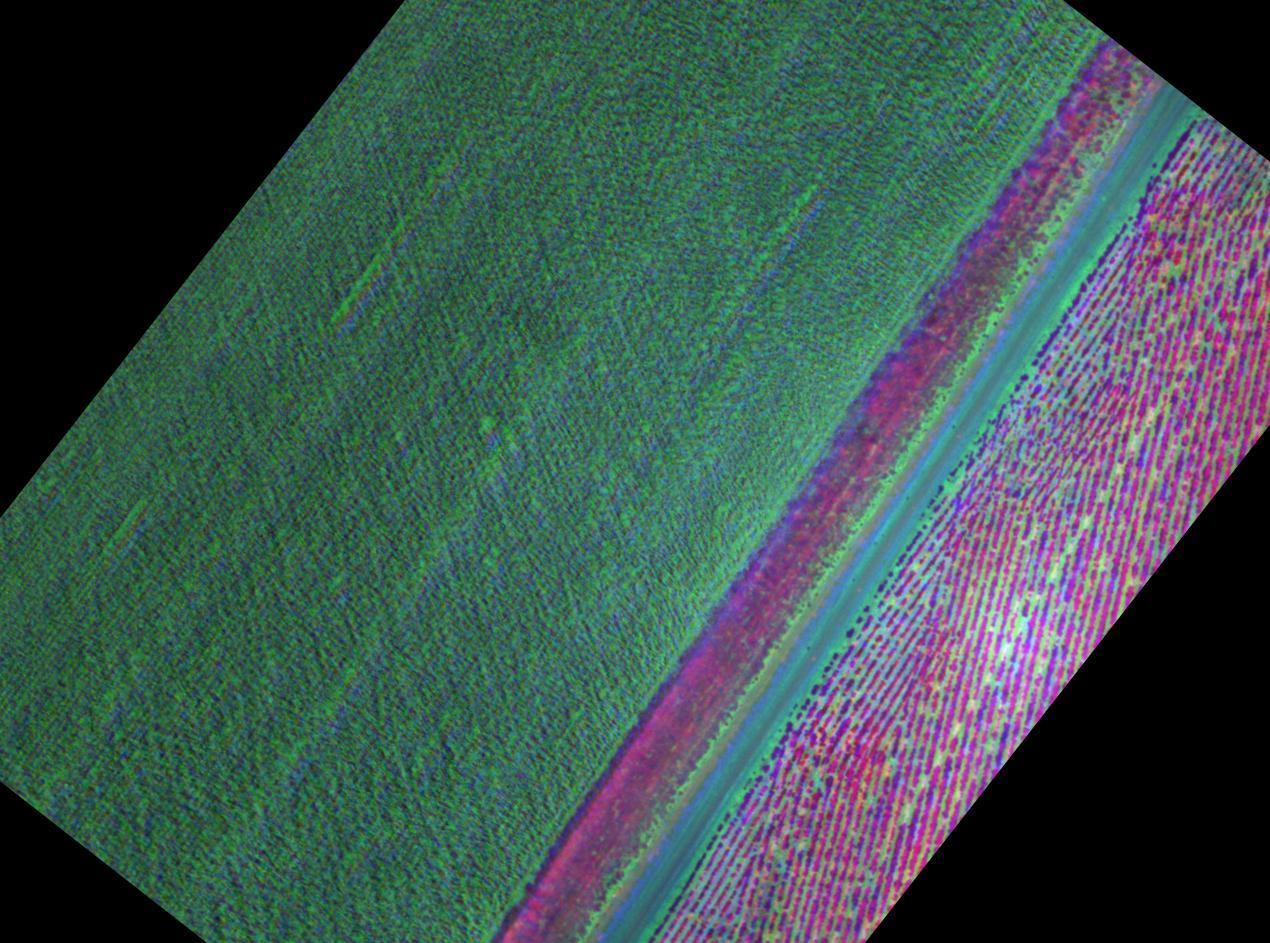dc: (1172, 268, 1178, 273), (1083, 519, 1087, 525), (1130, 440, 1135, 444), (948, 486, 953, 490), (951, 729, 955, 734), (1126, 230, 1130, 234), (1017, 622, 1021, 626), (777, 853, 781, 857), (770, 935, 774, 939), (1132, 208, 1136, 211), (1246, 196, 1249, 199)
